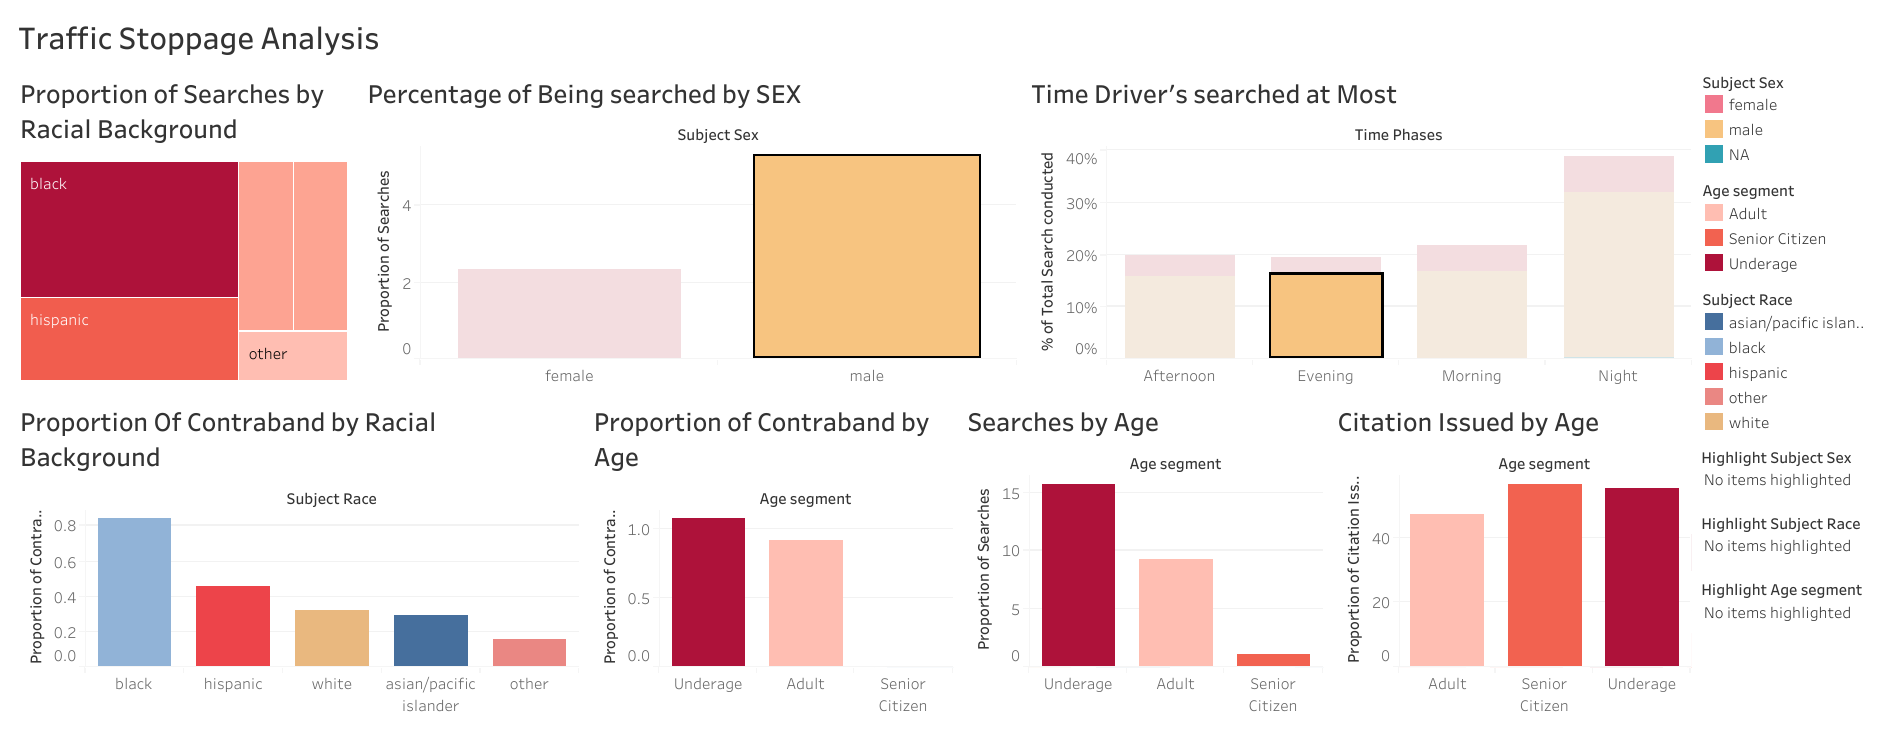

This screenshot's page, from the dashboard's own definition file:
{"tool":"tableau","page":{"name":"Traffic Stoppage Analysis","canvas":[1000,1000],"units":"permille","ordinal":0},"visuals":[{"type":"title","box":[4.8,9.4,990.3,57.6]},{"type":"worksheet","title":"Proportion of Searches by Racial Background","mark":"Automatic","box":[4.8,67,167.8,461.8]},{"type":"worksheet","title":"Percentage of Being searched by SEX","mark":"Automatic","rows":["Calculation_4078290992049651722"],"cols":["subject_sex"],"box":[172.6,67,320.5,461.8]},{"type":"worksheet","title":"Time Driver's searched at Most","mark":"Automatic","cols":["Calculation_4078290992025600001"],"box":[493.1,67,408.8,461.8]},{"type":"legend","title":"Time Driver's searched at Most","param":"[federated.1rr6ukt0f7h8yy1c0x13q1nj1xc3].[none:subject_sex:nk]","box":[901.9,67,93.3,109.3]},{"type":"legend","title":"Citation Issued by Age","param":"[federated.1rr6ukt0f7h8yy1c0x13q1nj1xc3].[none:Calculation_4078290992056770575:n","box":[901.9,176.3,93.3,109.3]},{"type":"legend","title":"Proportion Of Contraband by Racial Background","param":"[federated.1rr6ukt0f7h8yy1c0x13q1nj1xc3].[none:subject_race:nk]","box":[901.9,285.5,93.3,158.6]},{"type":"highlighter","title":"Percentage of Being searched by SEX","param":"[federated.1rr6ukt0f7h8yy1c0x13q1nj1xc3].[none:subject_sex:nk]","box":[901.9,444.2,93.3,65.8]},{"type":"highlighter","title":"Proportion Of Contraband by Racial Background","param":"[federated.1rr6ukt0f7h8yy1c0x13q1nj1xc3].[none:subject_race:nk]","box":[901.9,510,93.3,65.8]},{"type":"worksheet","title":"Proportion Of Contraband by Racial Background","mark":"Automatic","rows":["Calculation_4078290992051208203"],"cols":["subject_race"],"box":[4.8,528.8,306,461.8]},{"type":"worksheet","title":"Proportion of Contraband by Age ","mark":"Automatic","rows":["Calculation_4078290992051208203"],"cols":["Calculation_4078290992056770575"],"box":[310.8,528.8,199,461.8]},{"type":"worksheet","title":"Searches by Age","mark":"Automatic","rows":["Calculation_4078290992049651722"],"cols":["Calculation_4078290992056770575"],"box":[509.8,528.8,196,461.8]},{"type":"worksheet","title":"Citation Issued by Age","mark":"Automatic","rows":["Calculation_4078290992056004622"],"cols":["Calculation_4078290992056770575"],"box":[705.9,528.8,196,461.8]},{"type":"highlighter","title":"Proportion of Contraband by Age ","param":"[federated.1rr6ukt0f7h8yy1c0x13q1nj1xc3].[none:Calculation_4078290992056770575:n","box":[901.9,575.8,93.3,65.8]}]}

Visuals, with their boxes on the dashboard's canvas, which has no fixed pixel size, in thousandths of its width and height (x1, y1, x2, y2). These are canvas units, not pixel positions in the 1880x730 screenshot, which may show the page scaled, cropped or inside an application window:
title: <region>5, 9, 995, 67</region>
"Proportion of Searches by Racial Background" worksheet: <region>5, 67, 173, 529</region>
"Percentage of Being searched by SEX" worksheet: <region>173, 67, 493, 529</region>
"Time Driver's searched at Most" worksheet: <region>493, 67, 902, 529</region>
"Time Driver's searched at Most" legend: <region>902, 67, 995, 176</region>
"Citation Issued by Age" legend: <region>902, 176, 995, 286</region>
"Proportion Of Contraband by Racial Background" legend: <region>902, 286, 995, 444</region>
"Percentage of Being searched by SEX" highlighter: <region>902, 444, 995, 510</region>
"Proportion Of Contraband by Racial Background" highlighter: <region>902, 510, 995, 576</region>
"Proportion Of Contraband by Racial Background" worksheet: <region>5, 529, 311, 991</region>
"Proportion of Contraband by Age " worksheet: <region>311, 529, 510, 991</region>
"Searches by Age" worksheet: <region>510, 529, 706, 991</region>
"Citation Issued by Age" worksheet: <region>706, 529, 902, 991</region>
"Proportion of Contraband by Age " highlighter: <region>902, 576, 995, 642</region>
